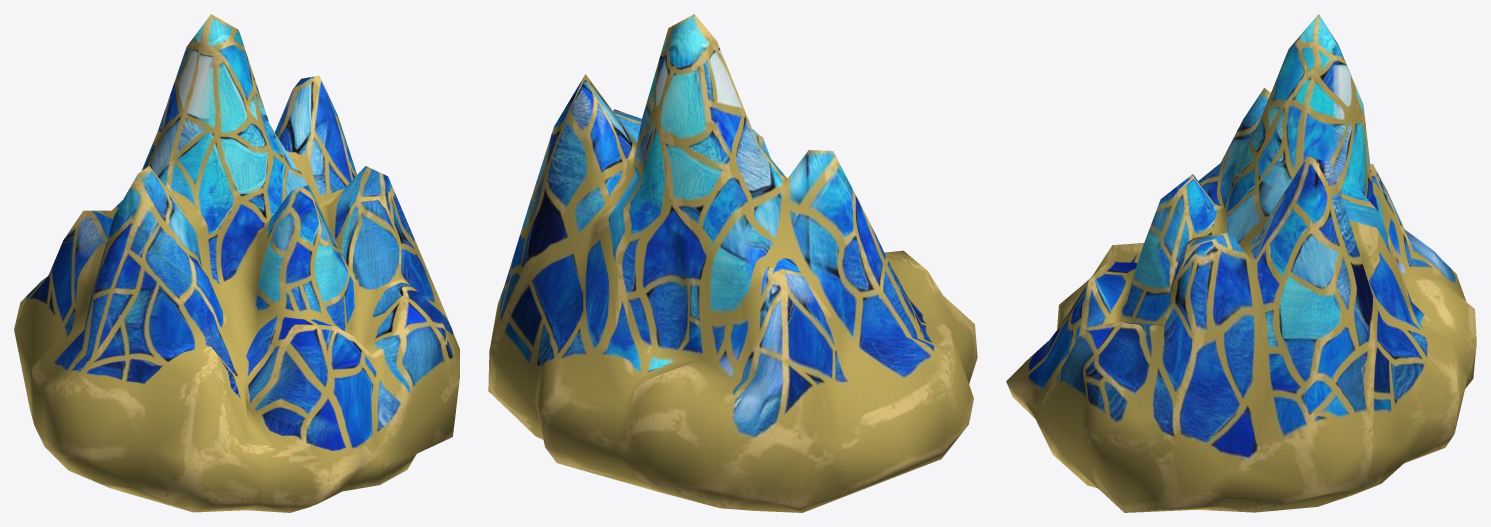
The model's file is mountainCompressed.glb.
3 renders of one model, left to right at view 1: azimuth 30°, elevation 25°; view 2: azimuth 150°, elevation 25°; view 3: azimuth 270°, elevation 25°, orthographic. The views are drawn at different scales.
Parts seen in each view (by area): view 1: mountain.001; view 2: mountain.001; view 3: mountain.001.
Boxes of the visible parts, x1=… form: mountain.001: x1=14, y1=14, x2=459, y2=512; mountain.001: x1=488, y1=14, x2=977, y2=512; mountain.001: x1=1006, y1=14, x2=1476, y2=512.
Bounding box in the file's own units: 1 × 1 × 1.
1 material, 1 textured.
